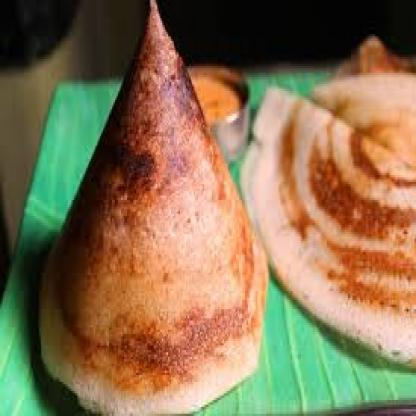dosa: (39, 0, 268, 416), (239, 84, 416, 366), (313, 38, 416, 172)
